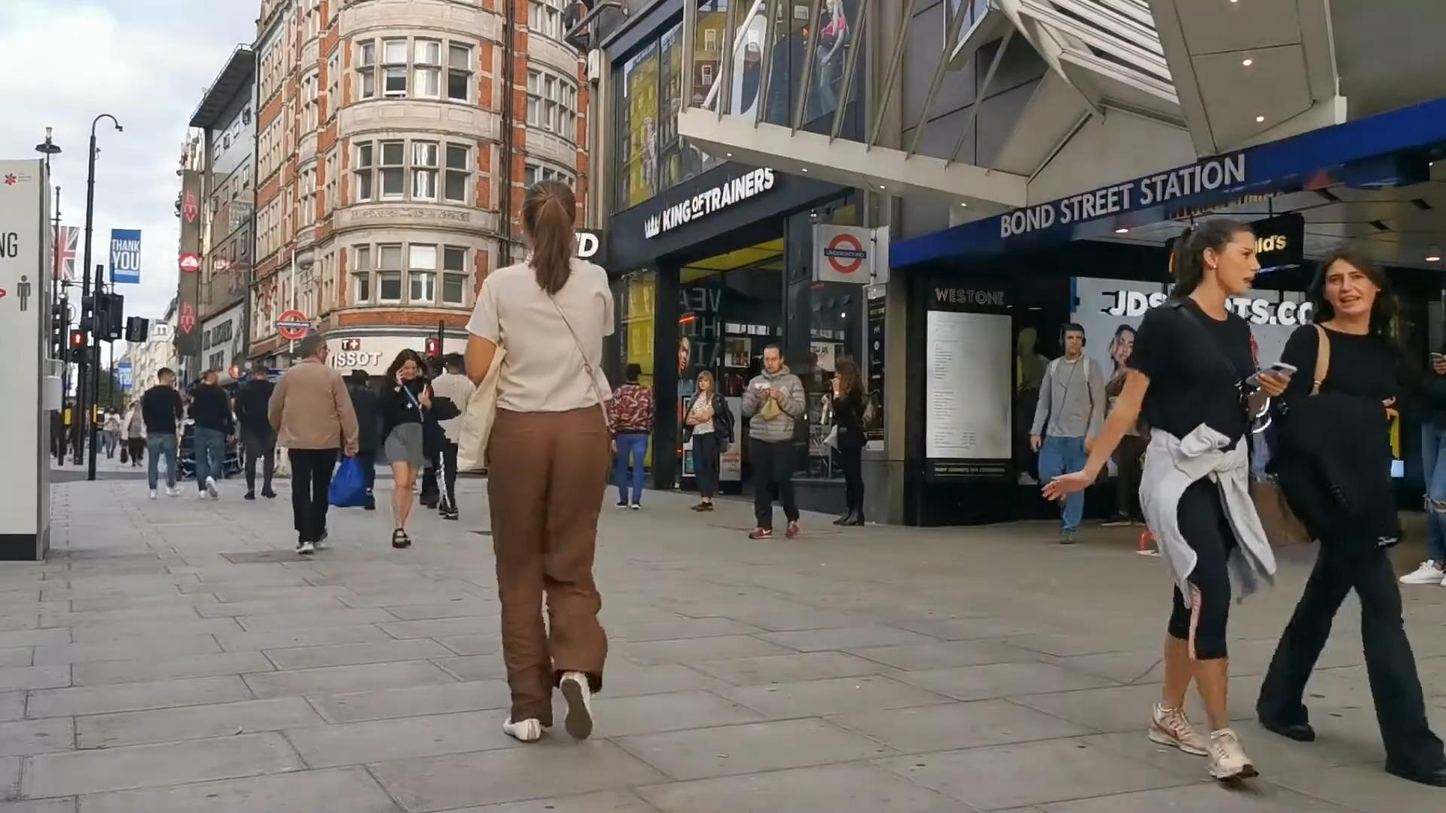no-helmet: (1306, 246, 1399, 337), (1166, 218, 1259, 300), (518, 178, 579, 296), (835, 358, 865, 401), (387, 348, 423, 381), (300, 334, 331, 365), (1059, 323, 1086, 357), (695, 370, 715, 406), (763, 343, 785, 374), (624, 363, 644, 382)
